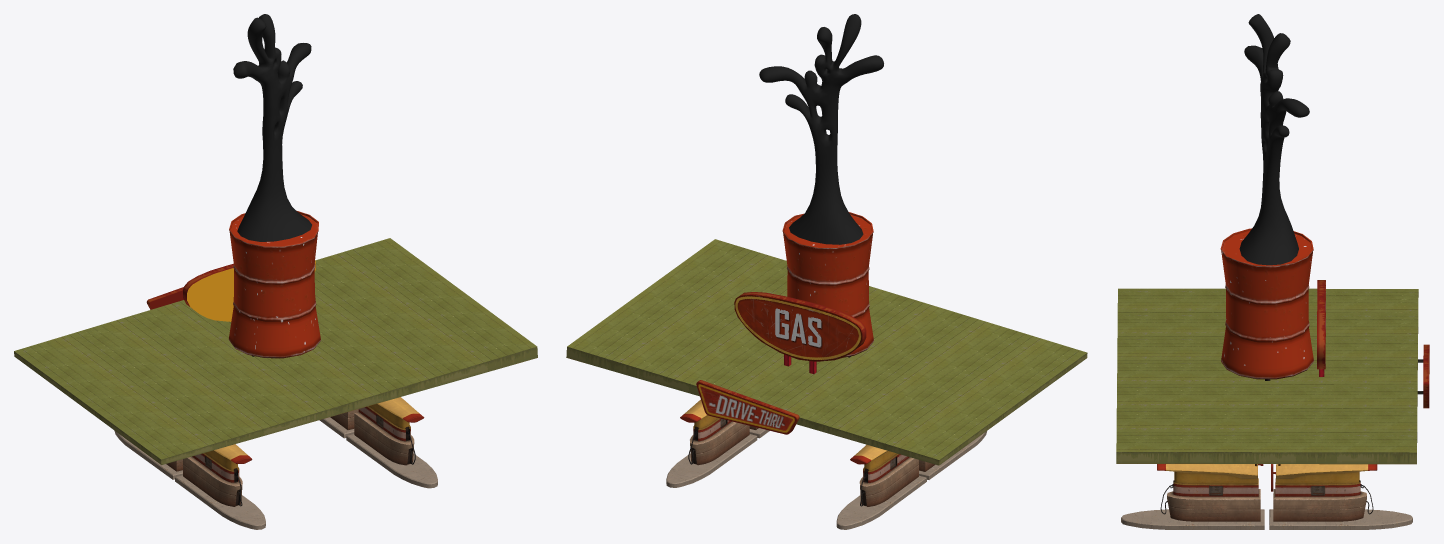
File: asset11.glb
3 views of the same model, side by side, from view 1: azimuth 30°, elevation 25°; view 2: azimuth 150°, elevation 25°; view 3: azimuth 270°, elevation 25° (orthographic). The views are drawn at different scales.
Parts seen in each view (by area): view 1: node_id37, node_id35, node_id41, node_id31, node_id33; view 2: node_id37, node_id35, node_id31, node_id41, node_id39, node_id33; view 3: node_id37, node_id35, node_id41, node_id31, node_id33.
Part boxes in pixels (<box>): node_id37: <box>14,238,536,459</box>; node_id35: <box>14,260,537,506</box>; node_id41: <box>228,210,320,358</box>; node_id31: <box>233,14,311,241</box>; node_id33: <box>114,417,437,529</box>; node_id37: <box>567,239,1086,459</box>; node_id35: <box>566,292,1087,506</box>; node_id31: <box>759,14,883,244</box>; node_id41: <box>782,212,873,357</box>; node_id39: <box>734,295,862,361</box>; node_id33: <box>666,428,986,529</box>; node_id37: <box>1116,288,1418,452</box>; node_id35: <box>1116,280,1429,521</box>; node_id41: <box>1220,228,1313,379</box>; node_id31: <box>1239,14,1309,265</box>; node_id33: <box>1121,509,1412,529</box>.
Size of the model in its own units: 0.452 by 0.512 by 0.3206.
Materials: 6 (6 with a texture image).
